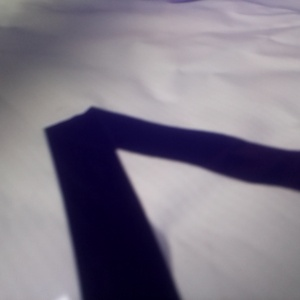bottom_right: (86, 54, 195, 100)
top_right: (31, 223, 232, 300)
